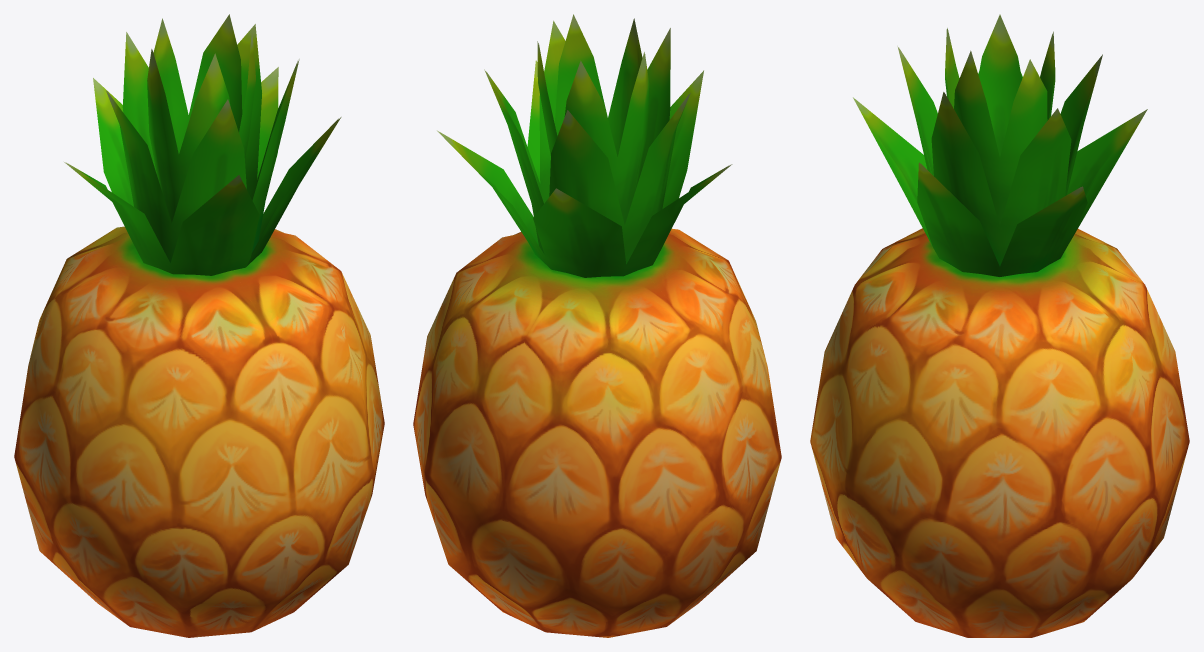
The model's file is pineapple.fbx.
3 renders of one model, left to right at view 1: azimuth 30°, elevation 25°; view 2: azimuth 150°, elevation 25°; view 3: azimuth 270°, elevation 25°, orthographic.
Parts seen in each view (by area): view 1: pineapple; view 2: pineapple; view 3: pineapple.
Boxes of the visible parts, <box> form: pineapple: <box>14,14,384,637</box>; pineapple: <box>413,14,781,637</box>; pineapple: <box>810,14,1189,637</box>.
Bounding box in the file's own units: 2.48 × 4.37 × 2.61.
